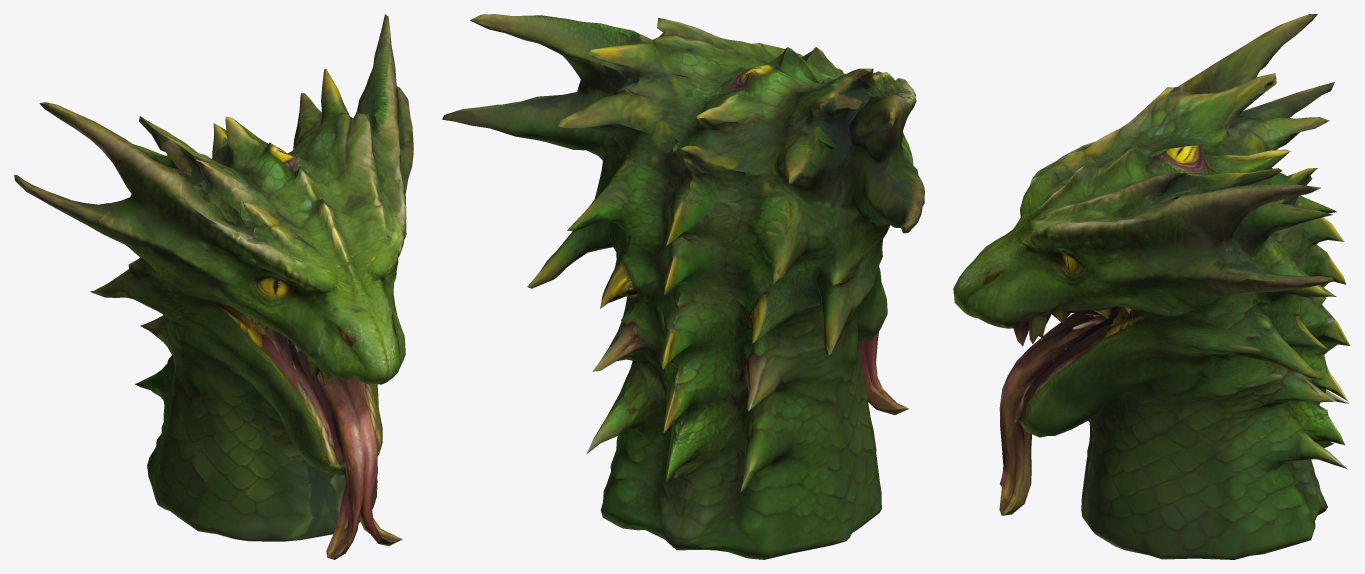
File: monster_21.glb
The picture shows the model from 3 angles, left to right: view 1: azimuth 30°, elevation 25°; view 2: azimuth 150°, elevation 25°; view 3: azimuth 270°, elevation 25°; orthographic projection. The views are drawn at different scales.
Visible parts, largest first — view 1: Dragon_Worm_0709125242_texture_obj; view 2: Dragon_Worm_0709125242_texture_obj; view 3: Dragon_Worm_0709125242_texture_obj.
Boxes of the visible parts, bbox=[...] form: Dragon_Worm_0709125242_texture_obj: bbox=[14, 14, 413, 559]; Dragon_Worm_0709125242_texture_obj: bbox=[442, 14, 924, 559]; Dragon_Worm_0709125242_texture_obj: bbox=[953, 14, 1350, 559].
Size of the model in its own units: 2 by 1.99 by 1.72.
1 material, 1 textured.
